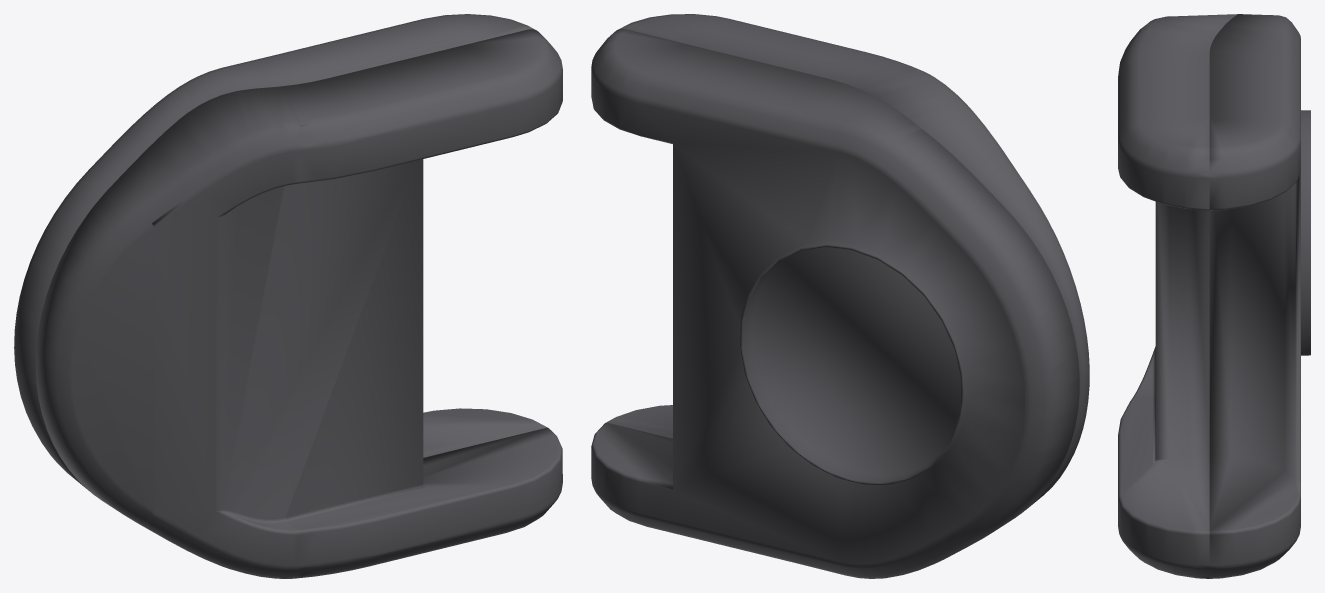
The model's file is head_pan_link.obj.
The picture shows the model from 3 angles, left to right: view 1: azimuth 30°, elevation 25°; view 2: azimuth 150°, elevation 25°; view 3: azimuth 270°, elevation 25°; orthographic projection. The views are drawn at different scales.
Bounding box in the file's own units: 0.3224 × 0.286 × 0.116.
Materials: 1 (1 with a texture image).
